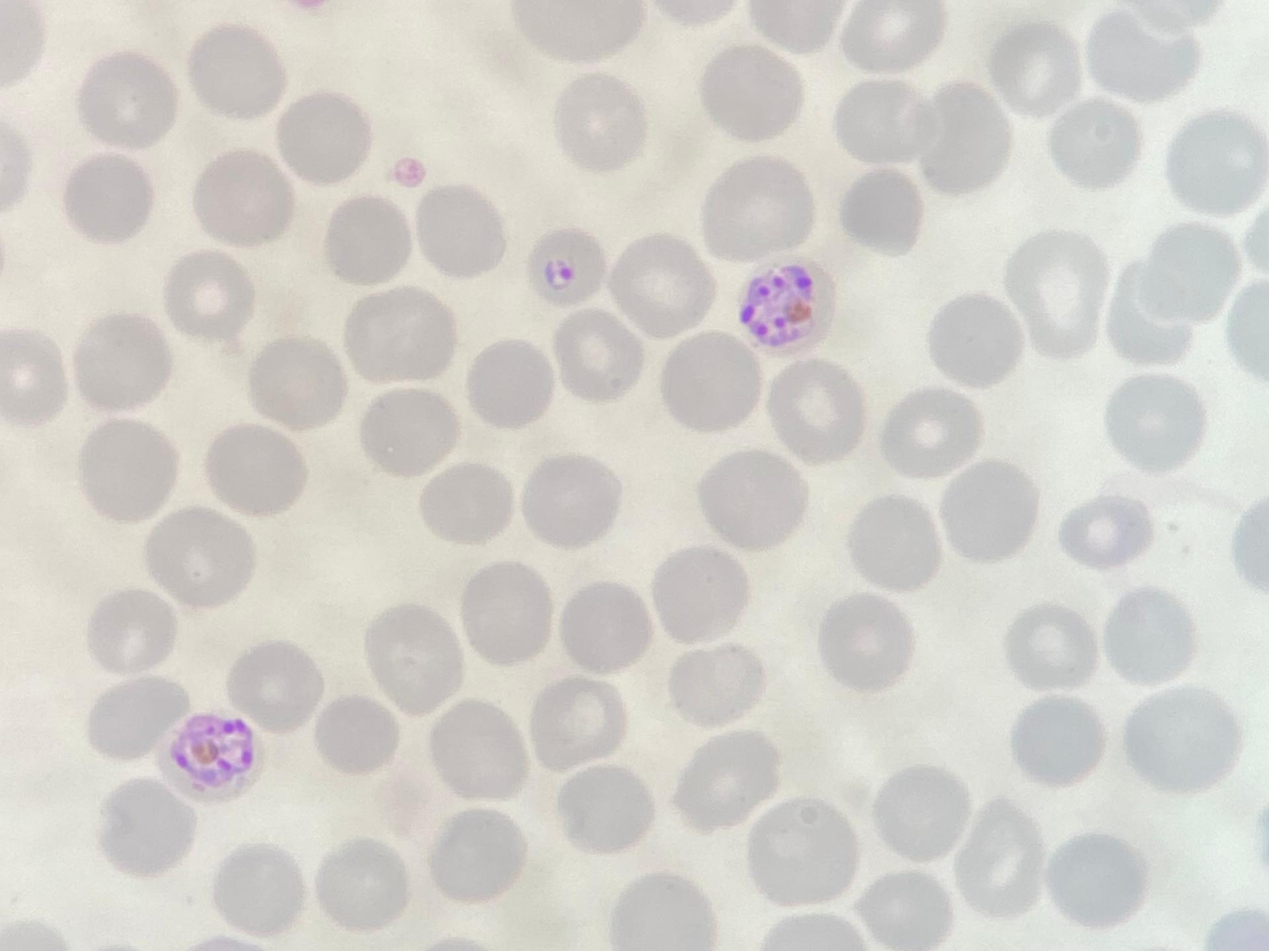Infected: (440, 593, 533, 687), (1008, 151, 1102, 238), (662, 642, 742, 724)
Uninfected: (26, 155, 145, 264), (159, 597, 262, 718), (23, 624, 138, 730), (403, 45, 518, 146), (509, 305, 620, 409), (810, 565, 923, 666), (255, 753, 352, 870), (452, 691, 564, 792), (806, 235, 907, 345), (220, 32, 316, 146), (460, 397, 568, 498), (61, 476, 167, 578), (1, 733, 102, 840), (66, 845, 179, 940), (1013, 342, 1120, 442), (227, 387, 330, 490), (400, 488, 503, 591), (487, 120, 594, 219), (506, 517, 609, 619), (1088, 426, 1190, 529), (463, 810, 569, 909), (324, 357, 425, 459), (244, 560, 345, 661), (552, 615, 654, 715), (626, 532, 715, 646), (739, 149, 841, 247), (325, 781, 434, 872), (295, 87, 395, 186), (353, 258, 453, 357), (126, 757, 225, 857), (1071, 71, 1172, 169), (1091, 801, 1191, 899), (120, 21, 221, 118), (645, 402, 747, 498), (284, 472, 389, 565), (1096, 539, 1194, 638), (960, 432, 1063, 526), (615, 276, 714, 373), (713, 284, 808, 385), (73, 584, 165, 688), (974, 704, 1073, 800), (922, 519, 1022, 614), (740, 47, 841, 141), (639, 180, 740, 274), (807, 471, 910, 563), (71, 264, 167, 362), (613, 95, 716, 186), (184, 833, 280, 930), (162, 161, 260, 256), (980, 831, 1079, 925), (621, 779, 714, 878), (944, 217, 1041, 309), (711, 521, 804, 616), (502, 221, 603, 308), (1082, 190, 1183, 277), (962, 13, 1056, 105), (856, 19, 951, 110), (1114, 706, 1206, 799), (895, 765, 989, 856), (171, 258, 266, 348), (753, 404, 849, 493), (761, 672, 851, 766), (854, 664, 943, 758), (1092, 275, 1185, 363), (1013, 609, 1104, 698), (552, 2, 658, 75), (623, 887, 750, 947), (344, 693, 431, 780), (322, 879, 428, 950), (114, 379, 208, 456), (868, 174, 956, 256), (316, 1, 410, 75), (1199, 527, 1269, 621), (837, 111, 900, 184)
